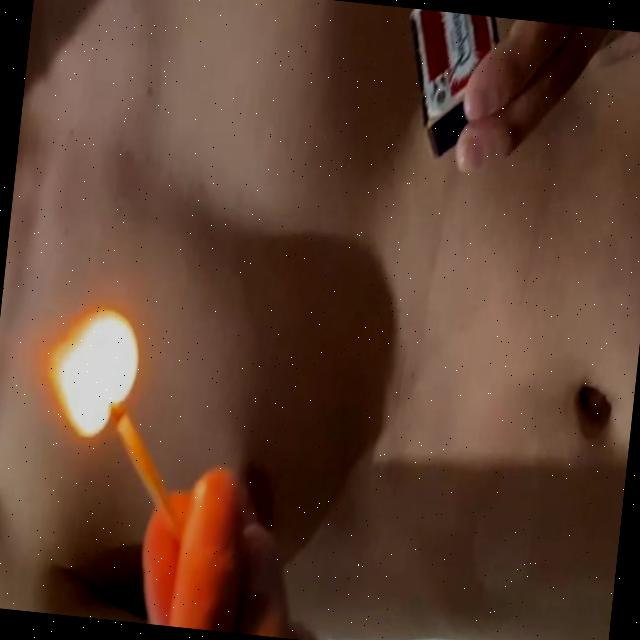fire: (21, 296, 146, 452)
